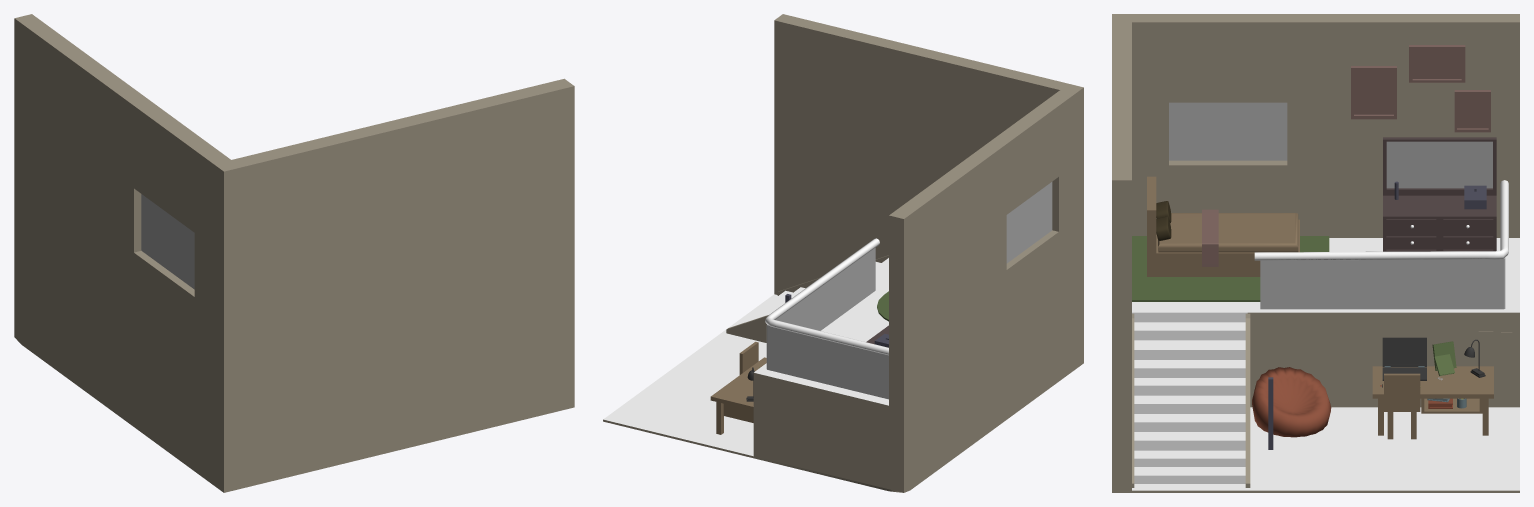
File: Cuartitoti.fbx
3 renders of one model, left to right at view 1: azimuth 30°, elevation 25°; view 2: azimuth 150°, elevation 25°; view 3: azimuth 270°, elevation 25°, orthographic. The views are drawn at different scales.
Visible parts, largest first — view 1: TOO, Ventana; view 2: TOO, pPlane1, Ventana, sweep1, MESA, pCube17; view 3: TOO, pCube37, pPlane1, pCube13, Ventana, Piff_feo, Alfombra, MESA, sweep1, pCube34, pCube36, pCube35 (+6 smaller).
Part boxes in pixels (x1=…): TOO: x1=14, y1=14, x2=574, y2=492; Ventana: x1=141, y1=194, x2=194, y2=289; TOO: x1=603, y1=14, x2=1083, y2=492; pPlane1: x1=766, y1=248, x2=888, y2=399; Ventana: x1=1006, y1=182, x2=1052, y2=263; sweep1: x1=765, y1=238, x2=888, y2=355; MESA: x1=710, y1=357, x2=766, y2=422; pCube17: x1=726, y1=315, x2=768, y2=342; TOO: x1=1112, y1=14, x2=1519, y2=492; pCube37: x1=1383, y1=137, x2=1496, y2=251; pPlane1: x1=1260, y1=257, x2=1505, y2=309; pCube13: x1=1147, y1=176, x2=1299, y2=276; Ventana: x1=1169, y1=102, x2=1287, y2=160; Piff_feo: x1=1252, y1=367, x2=1331, y2=437; Alfombra: x1=1132, y1=236, x2=1329, y2=301; MESA: x1=1372, y1=366, x2=1493, y2=413; sweep1: x1=1254, y1=180, x2=1508, y2=260; pCube34: x1=1351, y1=66, x2=1396, y2=119; pCube36: x1=1409, y1=45, x2=1465, y2=82; pCube35: x1=1454, y1=90, x2=1490, y2=132.
Size of the model in its own units: 961 by 841 by 994.
